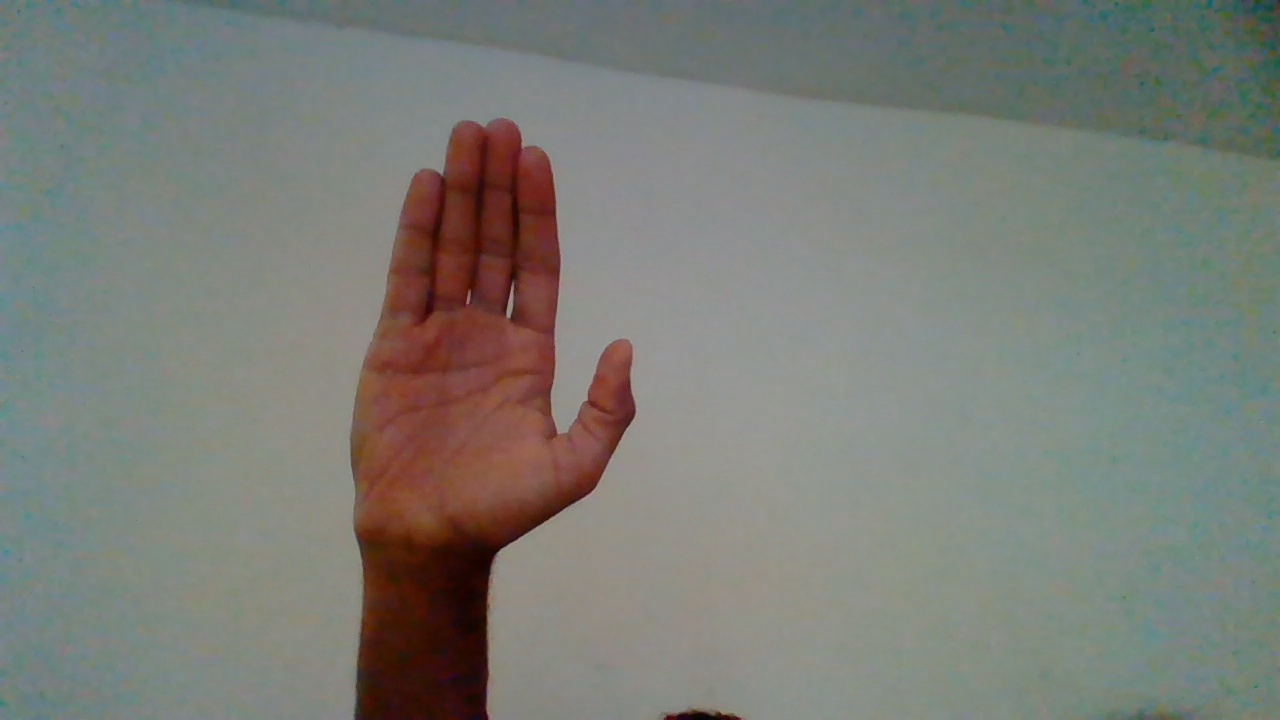ha: (348, 120, 644, 630)
